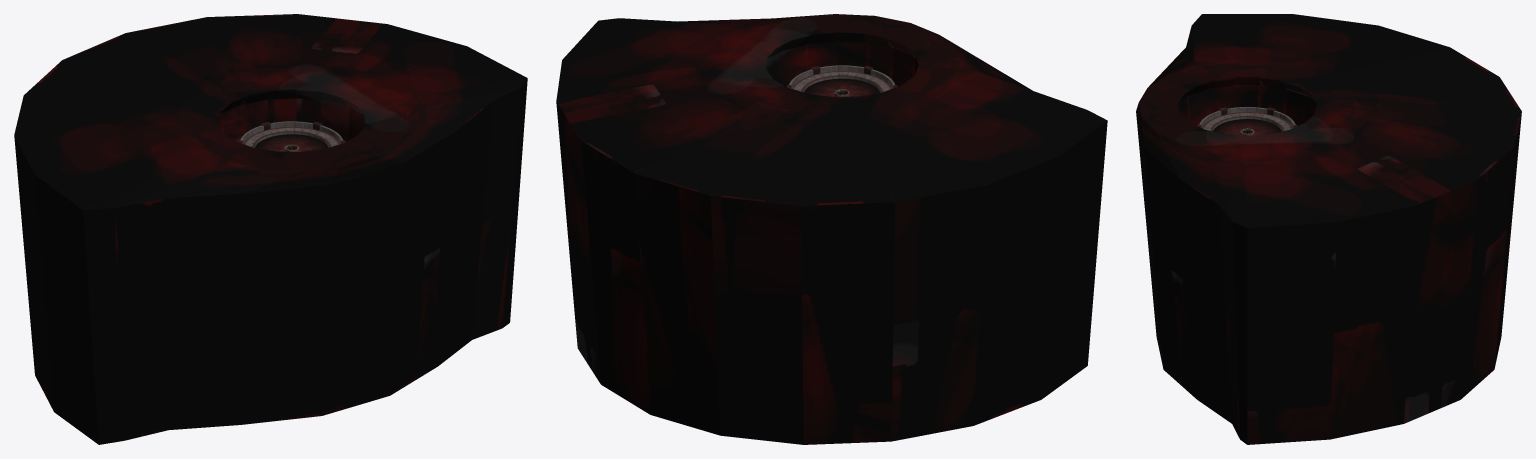
The model's file is arena.fbx.
3 views of the same model, side by side, from view 1: azimuth 30°, elevation 25°; view 2: azimuth 150°, elevation 25°; view 3: azimuth 270°, elevation 25° (orthographic). The views are drawn at different scales.
Parts seen in each view (by area): view 1: Torus, base; view 2: Torus, base; view 3: Torus, base.
Boxes of the visible parts, x1,y1,x2,y2 form: Torus: (14,14,527,444); base: (240,121,343,151); Torus: (556,14,1107,444); base: (789,65,894,96); Torus: (1136,14,1521,444); base: (1199,107,1295,135).
Bounding box in the file's own units: 11709 × 6092 × 8922.
